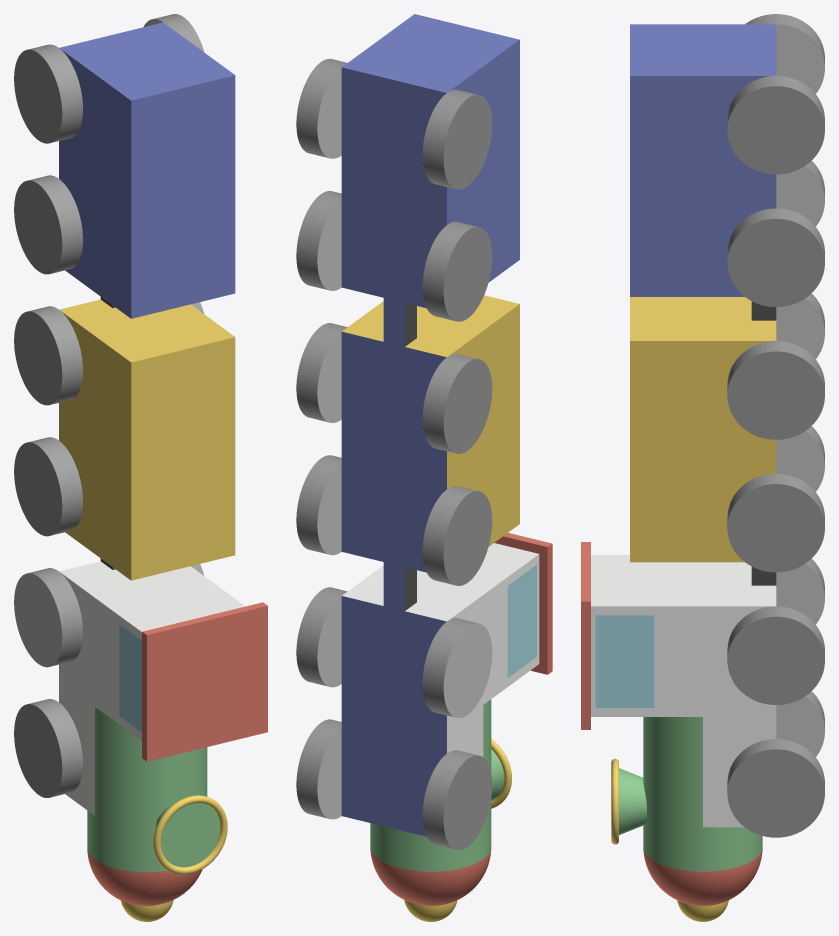
File: trainv1.gltf
3 renders of one model, left to right at view 1: azimuth 30°, elevation 25°; view 2: azimuth 150°, elevation 25°; view 3: azimuth 270°, elevation 25°, orthographic.
Parts seen in each view (by area): view 1: trem v1 (×4); view 2: trem v1 (×4); view 3: trem v1 (×4).
Boxes of the visible parts, <box> form: trem v1 (×4): <box>14,14,267,921</box>; trem v1 (×4): <box>296,14,552,921</box>; trem v1 (×4): <box>581,14,824,921</box>.
Bounding box in the file's own units: 0.035 × 0.1966 × 0.05.
